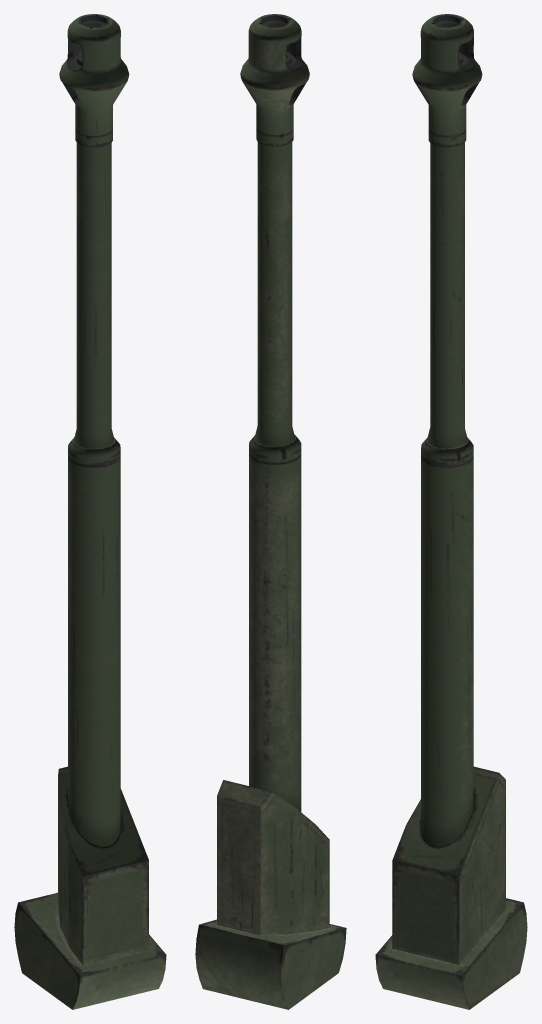
Rendered from Gun_03.glb.
3 views of the same model, side by side, from view 1: azimuth 30°, elevation 25°; view 2: azimuth 150°, elevation 25°; view 3: azimuth 330°, elevation 25° (orthographic).
Parts seen in each view (by area): view 1: set_0_group_0; view 2: set_0_group_0; view 3: set_0_group_0.
Boxes of the visible parts, x1,y1,x2,y2 form: set_0_group_0: (14, 14, 166, 1009); set_0_group_0: (195, 14, 346, 1009); set_0_group_0: (375, 14, 527, 1009).
Size of the model in its own units: 0.443 by 4.72 by 0.5854.
Materials: 1 (1 with a texture image).
